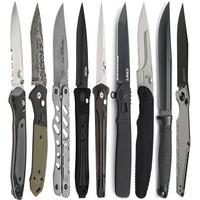knife: (51, 1, 76, 198), (110, 1, 135, 198), (133, 3, 157, 197), (6, 1, 29, 200), (154, 2, 176, 200), (72, 2, 93, 200), (26, 2, 46, 194), (92, 2, 111, 200), (174, 2, 191, 197)
